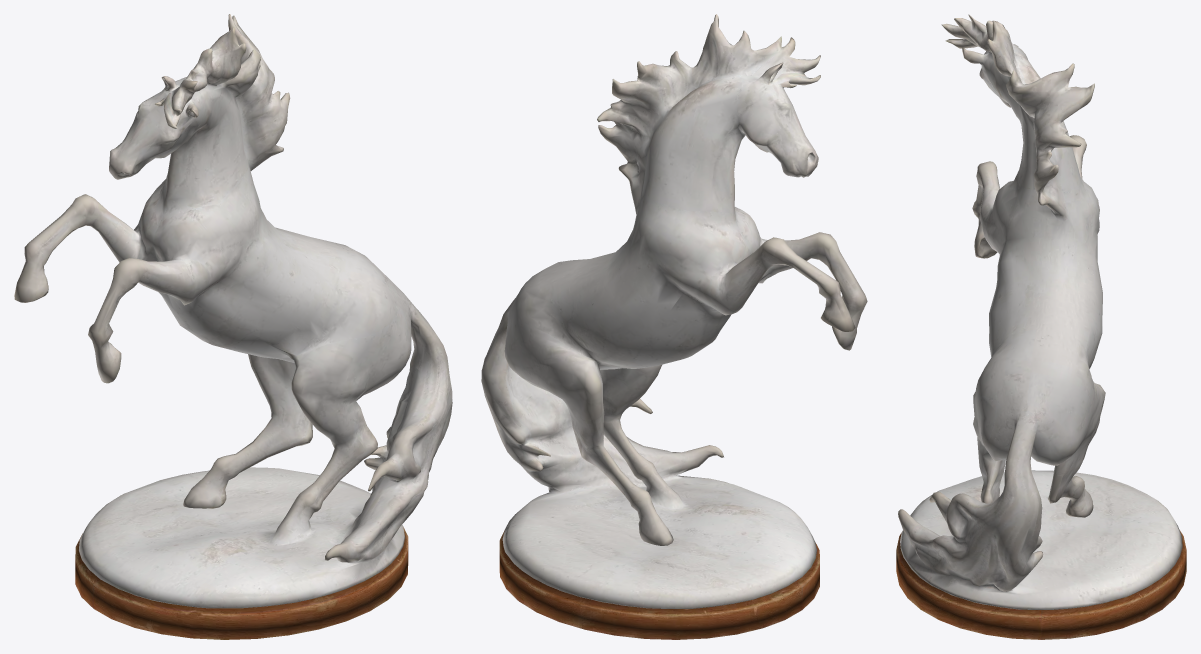
The model's file is horse_statue_01.glb.
3 views of the same model, side by side, from view 1: azimuth 30°, elevation 25°; view 2: azimuth 150°, elevation 25°; view 3: azimuth 270°, elevation 25° (orthographic). The views are drawn at different scales.
Parts seen in each view (by area): view 1: horse_statue_01; view 2: horse_statue_01; view 3: horse_statue_01.
Part boxes in pixels (x1=…): horse_statue_01: x1=14, y1=14, x2=452, y2=639; horse_statue_01: x1=481, y1=14, x2=867, y2=639; horse_statue_01: x1=896, y1=14, x2=1186, y2=639.
Size of the model in its own units: 0.1638 by 0.22 by 0.1078.
1 material, 1 textured.
